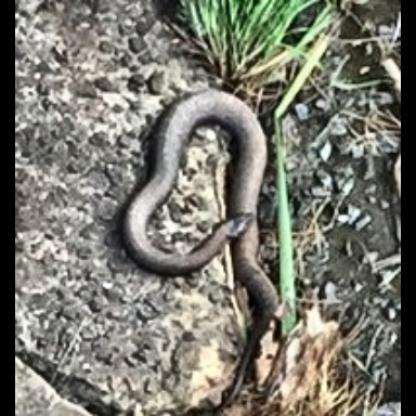Snake: (122, 86, 282, 400)
